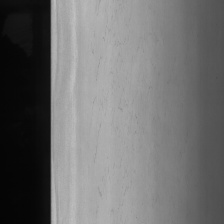silk_spot: (82, 0, 156, 216)
